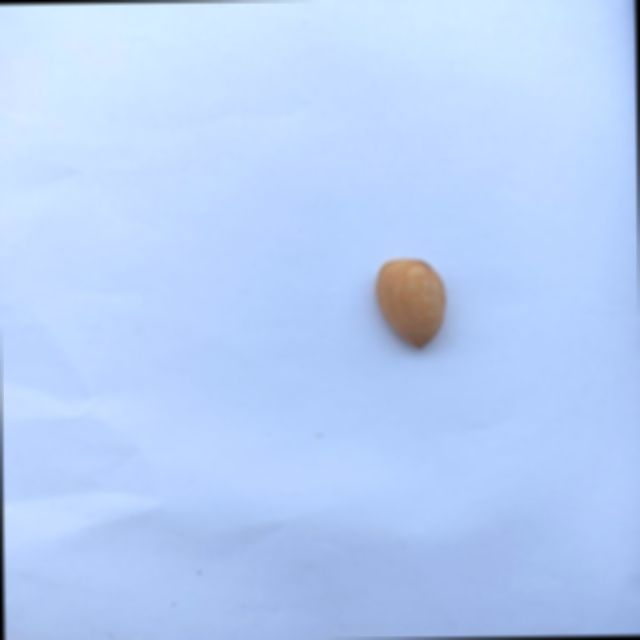grade2: (369, 255, 450, 352)
